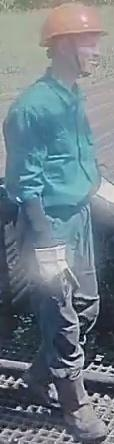gloves: (28, 240, 81, 307)
helmet: (38, 2, 108, 45)
vest: (7, 81, 100, 221)
